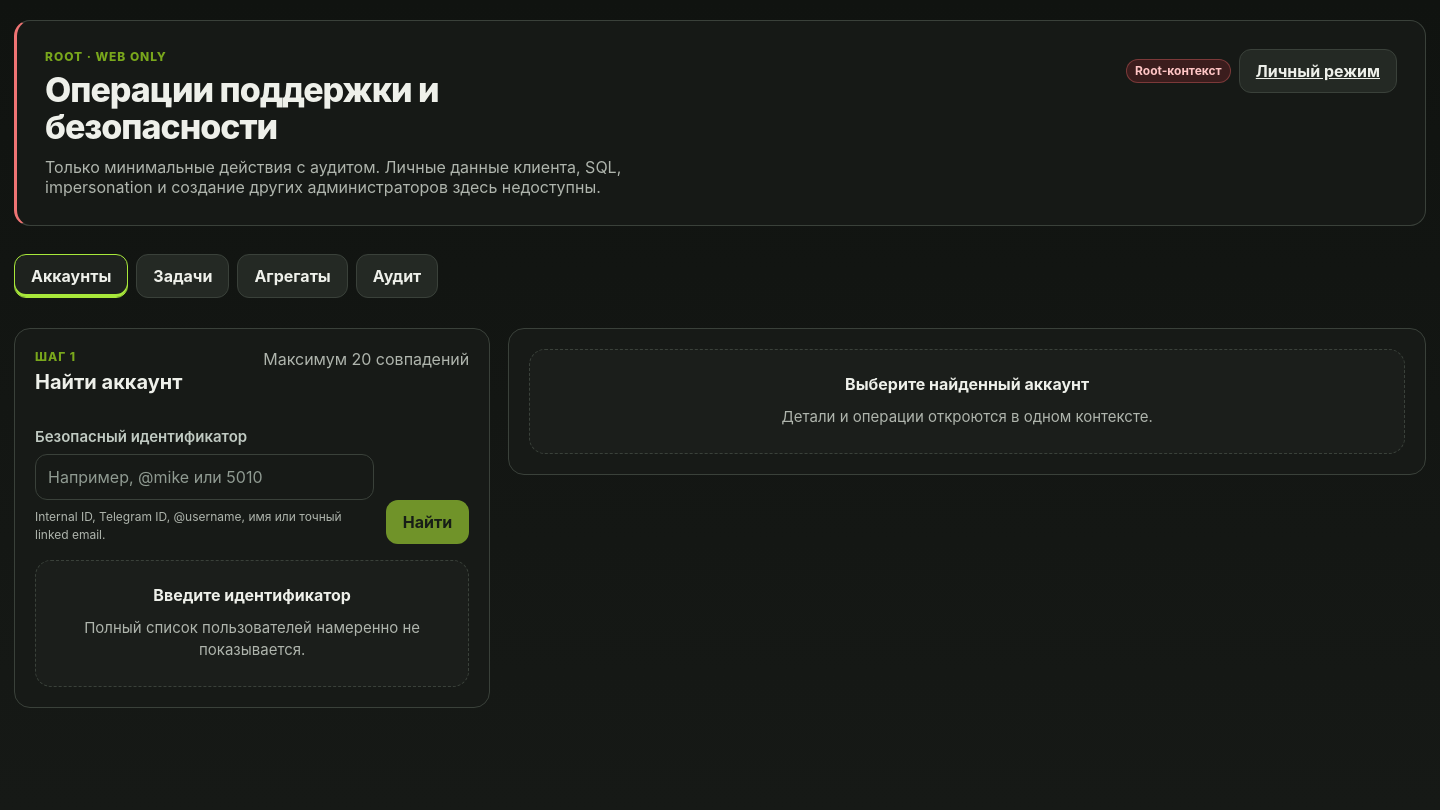
Test: AdminPage › показывает агрегаты без raw events и отдельный audit history
The width and height of the screenshot is (1440, 810).
Click the button "Агрегаты" at {"x": 293, "y": 276}, box [237, 254, 348, 298]
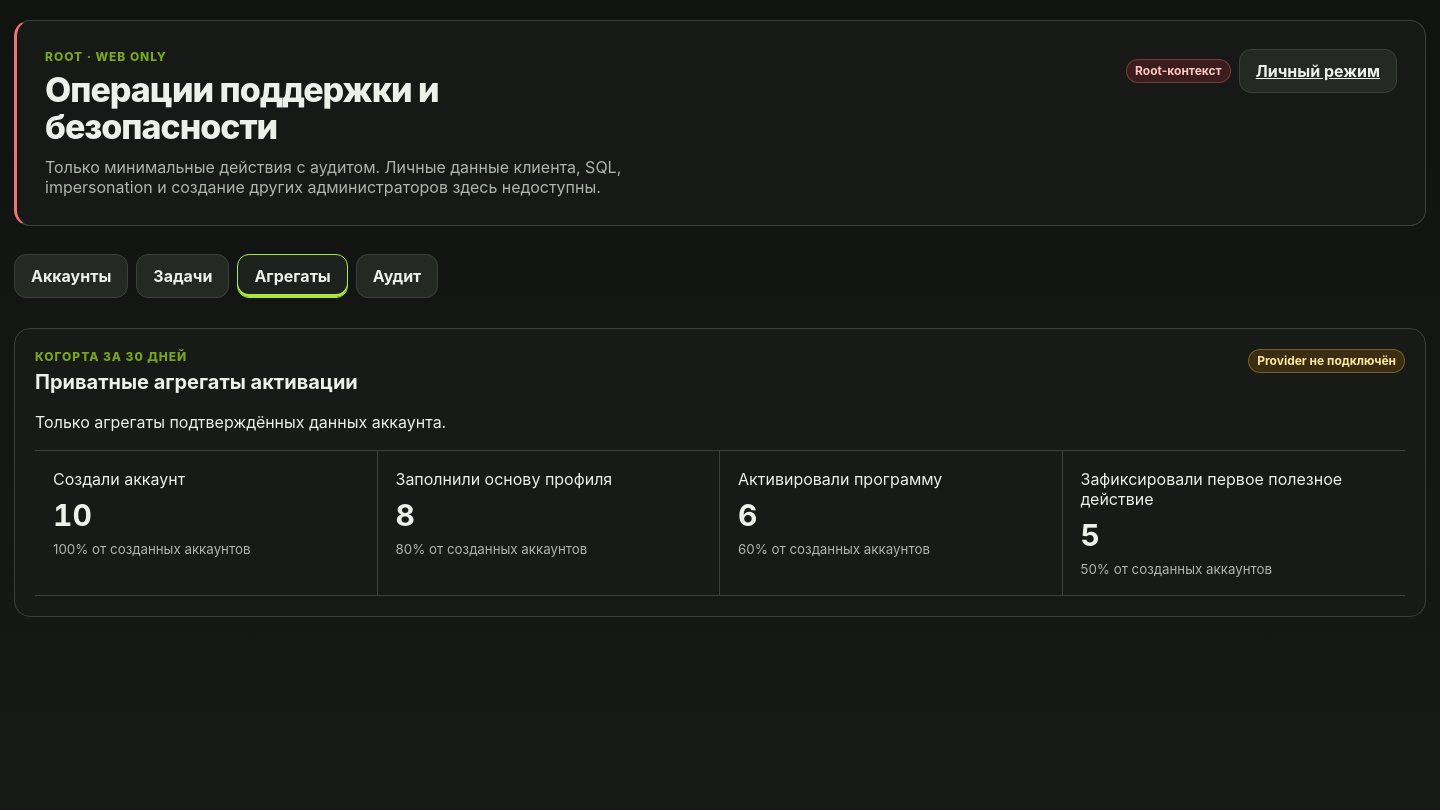
Expected: the text "10" is shown, [53, 497, 92, 533]
Expected: the text "Provider не подключён" is shown, [1248, 349, 1405, 373]
Expected: the text "Только агрегаты подтверждённых данных аккаунта." is shown, [35, 412, 446, 432]
Click the button "Аудит" at {"x": 397, "y": 276}, box [356, 254, 438, 298]
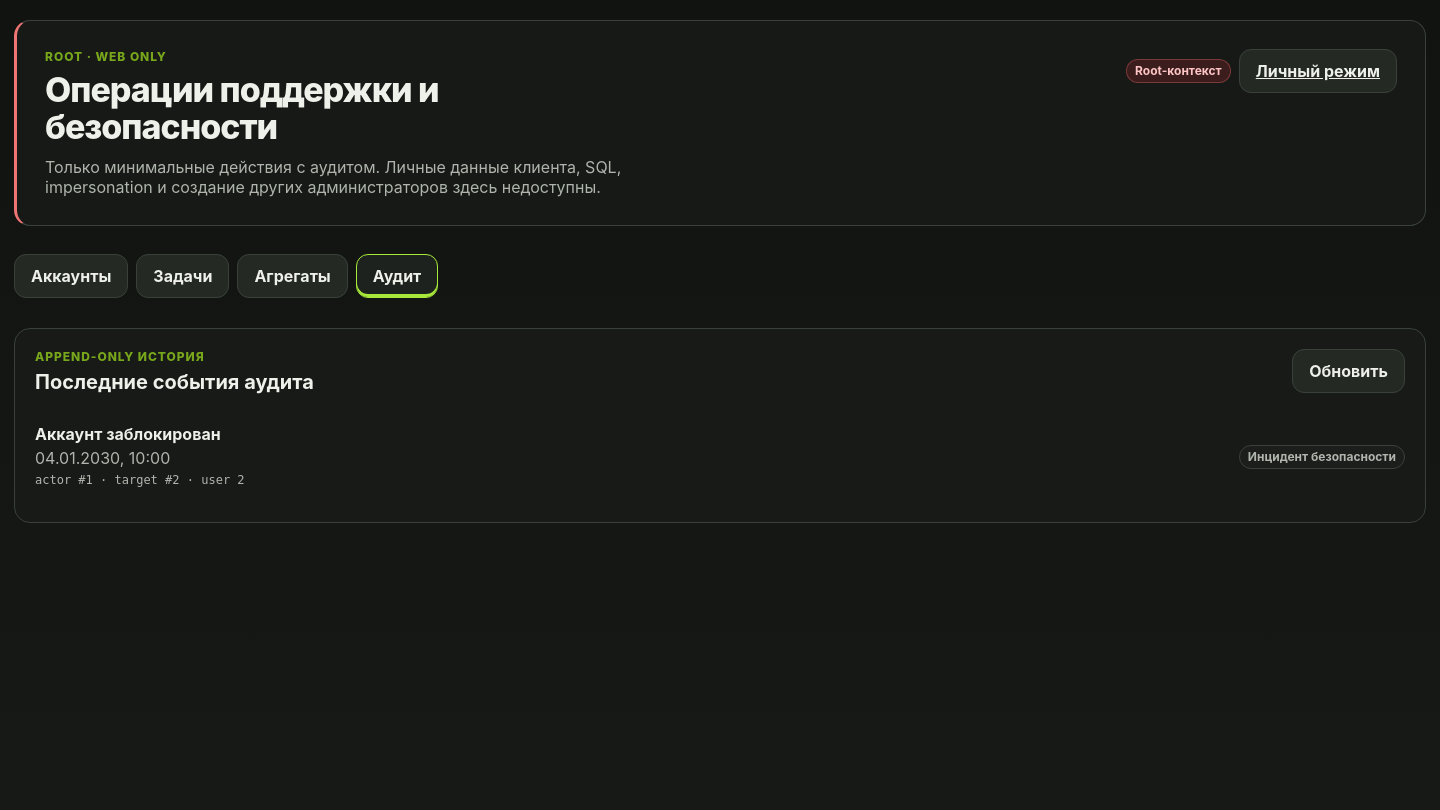
Expected: the text "Аккаунт заблокирован" is shown, [35, 424, 245, 444]
Expected: the text "Инцидент безопасности" is shown, [1239, 445, 1405, 469]
